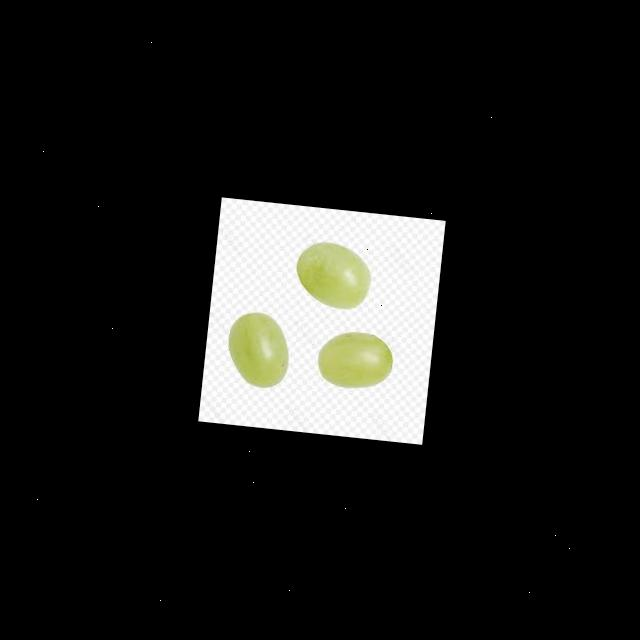grape: (292, 237, 374, 310), (222, 307, 292, 389), (314, 326, 394, 392)
